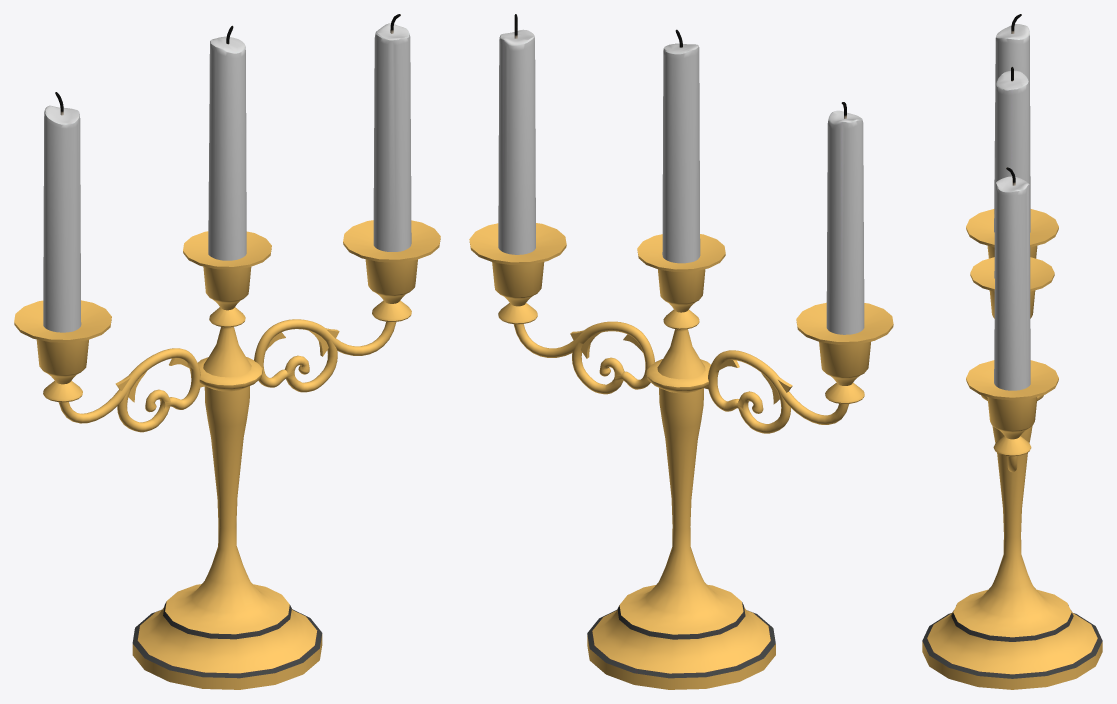
The model's file is candle_holder.glb.
3 renders of one model, left to right at view 1: azimuth 30°, elevation 25°; view 2: azimuth 150°, elevation 25°; view 3: azimuth 270°, elevation 25°, orthographic. The views are drawn at different scales.
Visible parts, largest first — view 1: Plane_Material.001_0; view 2: Plane_Material.001_0; view 3: Plane_Material.001_0.
Part boxes in pixels (x1=…): Plane_Material.001_0: x1=14, y1=14, x2=440, y2=689; Plane_Material.001_0: x1=469, y1=14, x2=893, y2=689; Plane_Material.001_0: x1=922, y1=14, x2=1102, y2=689.
Bounding box in the file's own units: 11.52 × 16.55 × 4.61.
Materials: 1 (1 with a texture image).
